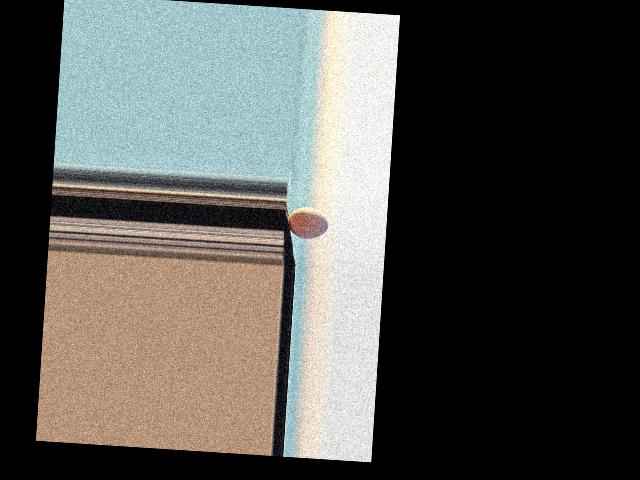egg: (287, 205, 329, 240)
